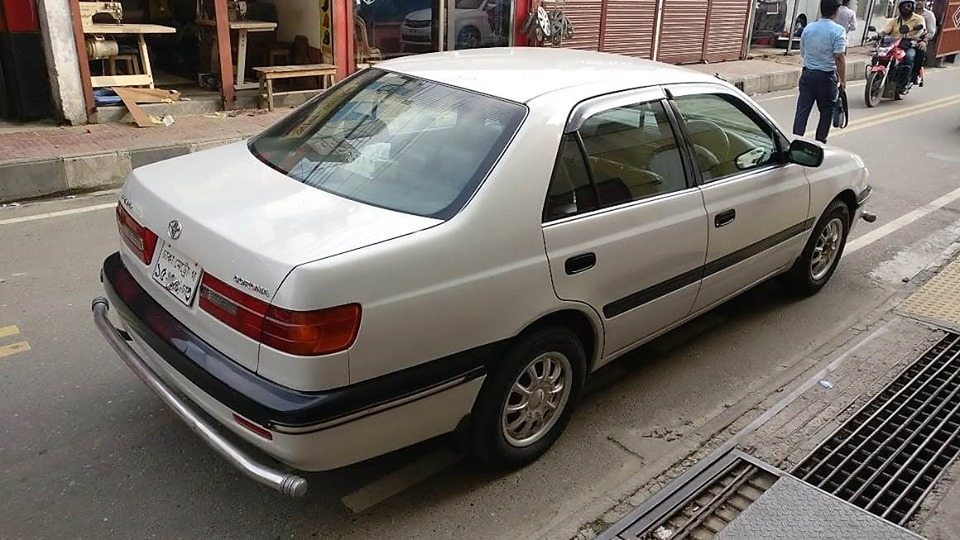bike: (862, 26, 924, 107)
car: (98, 48, 870, 509)
